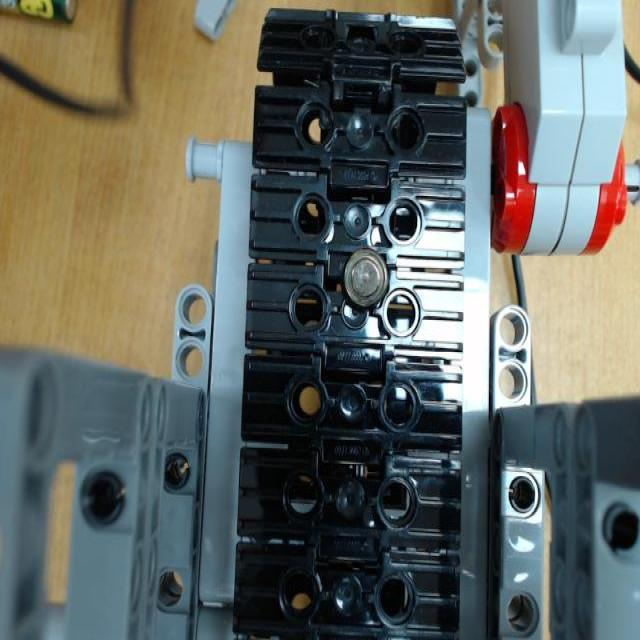AAA: (342, 251, 390, 309)
